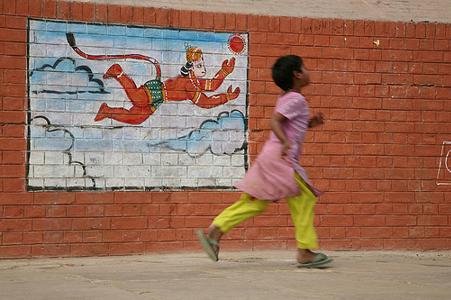person: (199, 53, 335, 268)
